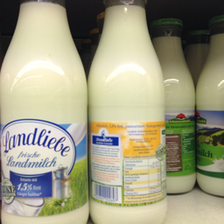milk: (1, 1, 89, 223), (87, 1, 168, 224)
